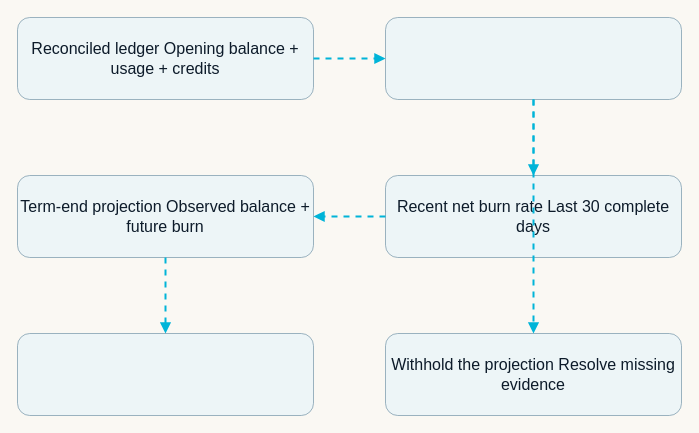
Image size: 699x433. Some labels were removed from this diagram. Here are the shapes that lost their labels. From the top down, the centre of each, then its label:
At (533,58): "Coverage check Complete, current, nonconflicting".
At (165,374): "Owned risk case Shortfall or early depletion".
